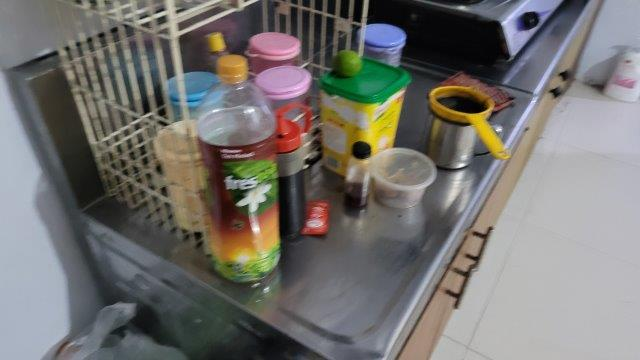botolplastik: (196, 54, 279, 289)
